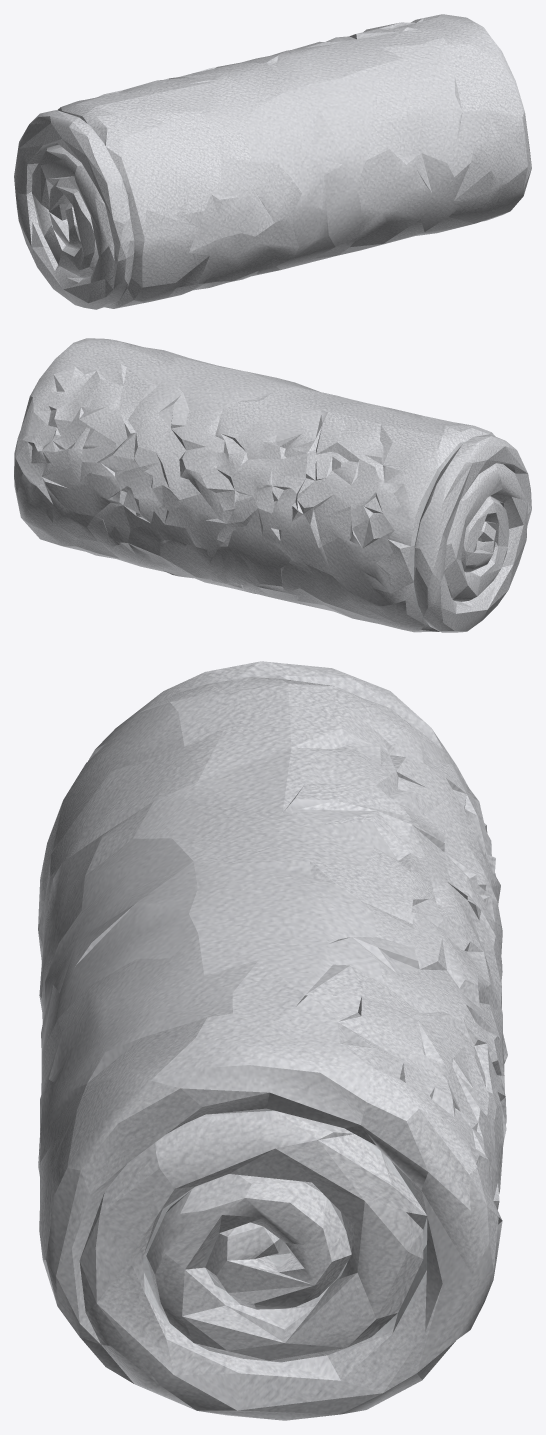
Rendered from Meshy_AI_model2.glb.
The picture shows the model from 3 angles, top to bottom: view 1: azimuth 30°, elevation 25°; view 2: azimuth 150°, elevation 25°; view 3: azimuth 270°, elevation 25°; orthographic projection. The views are drawn at different scales.
Visible parts, largest first — view 1: output_unwrapped; view 2: output_unwrapped; view 3: output_unwrapped.
Part boxes in pixels (x1=…): output_unwrapped: x1=14, y1=14, x2=531, y2=309; output_unwrapped: x1=14, y1=338, x2=531, y2=632; output_unwrapped: x1=38, y1=661, x2=507, y2=1420.
Size of the model in its own units: 1.9 by 0.7963 by 0.9097.
1 material, 1 textured.
